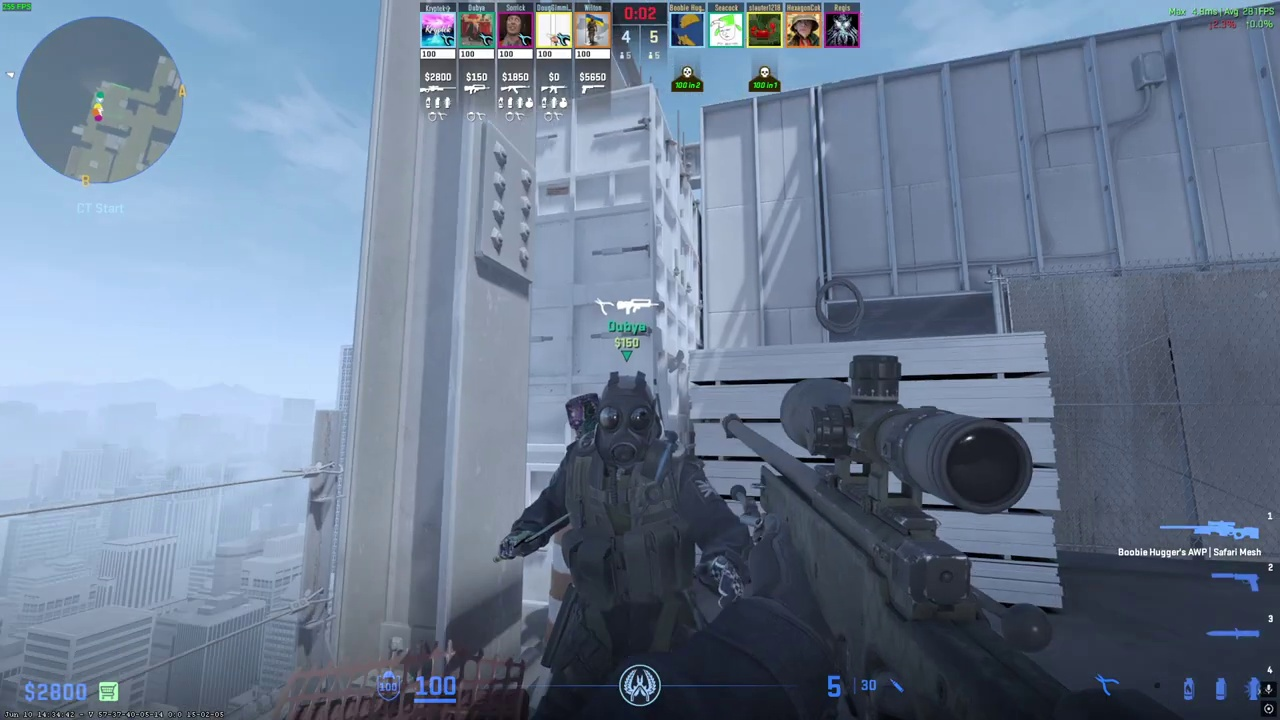CT: (527, 372, 722, 720)
